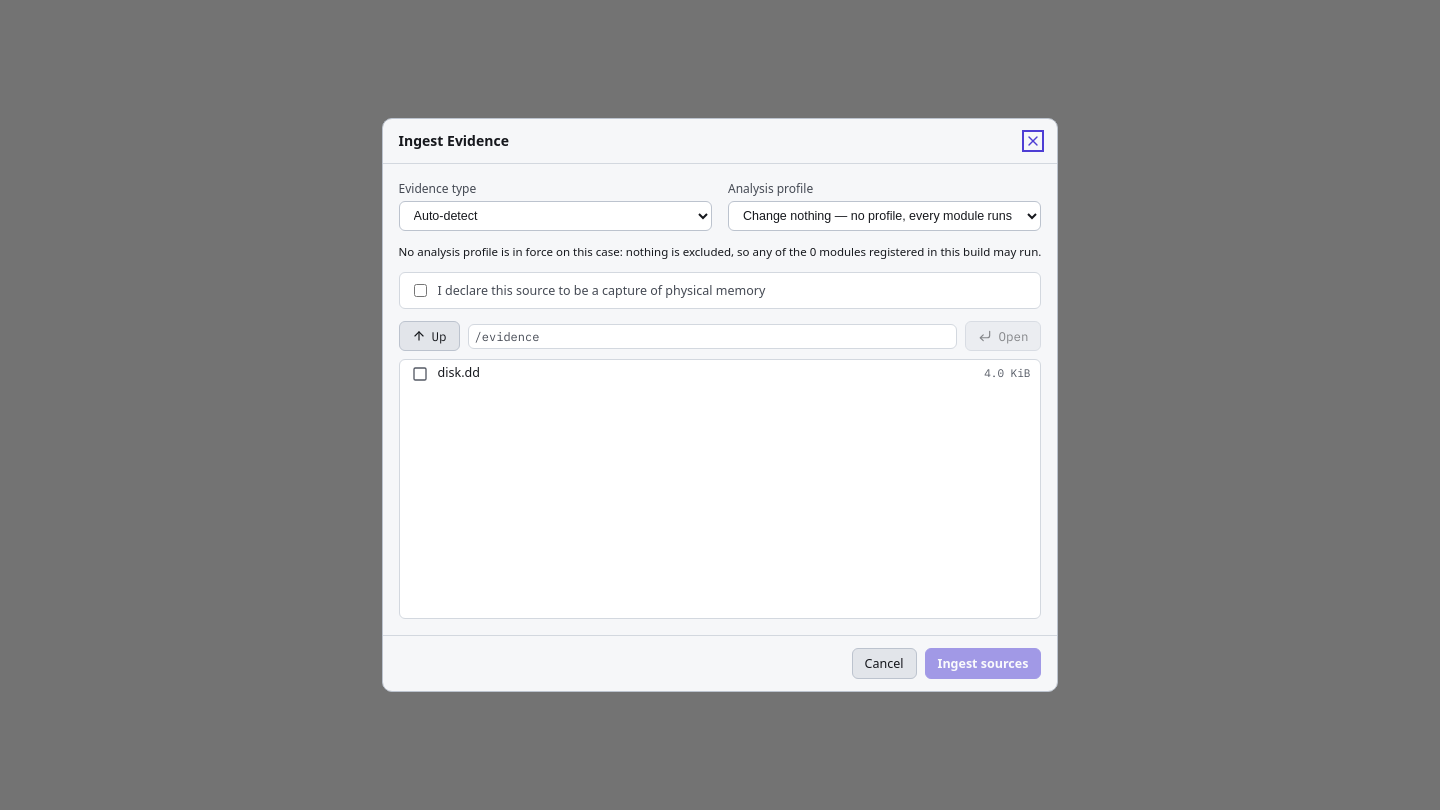
Scenario: pasting a known evidence path › shows the server refusal against the path the examiner pasted
Replace the text in the field named "path" with "/home/examiner/Downloads" at [712, 336], box 468,324 -> 957,349
Then press Enter
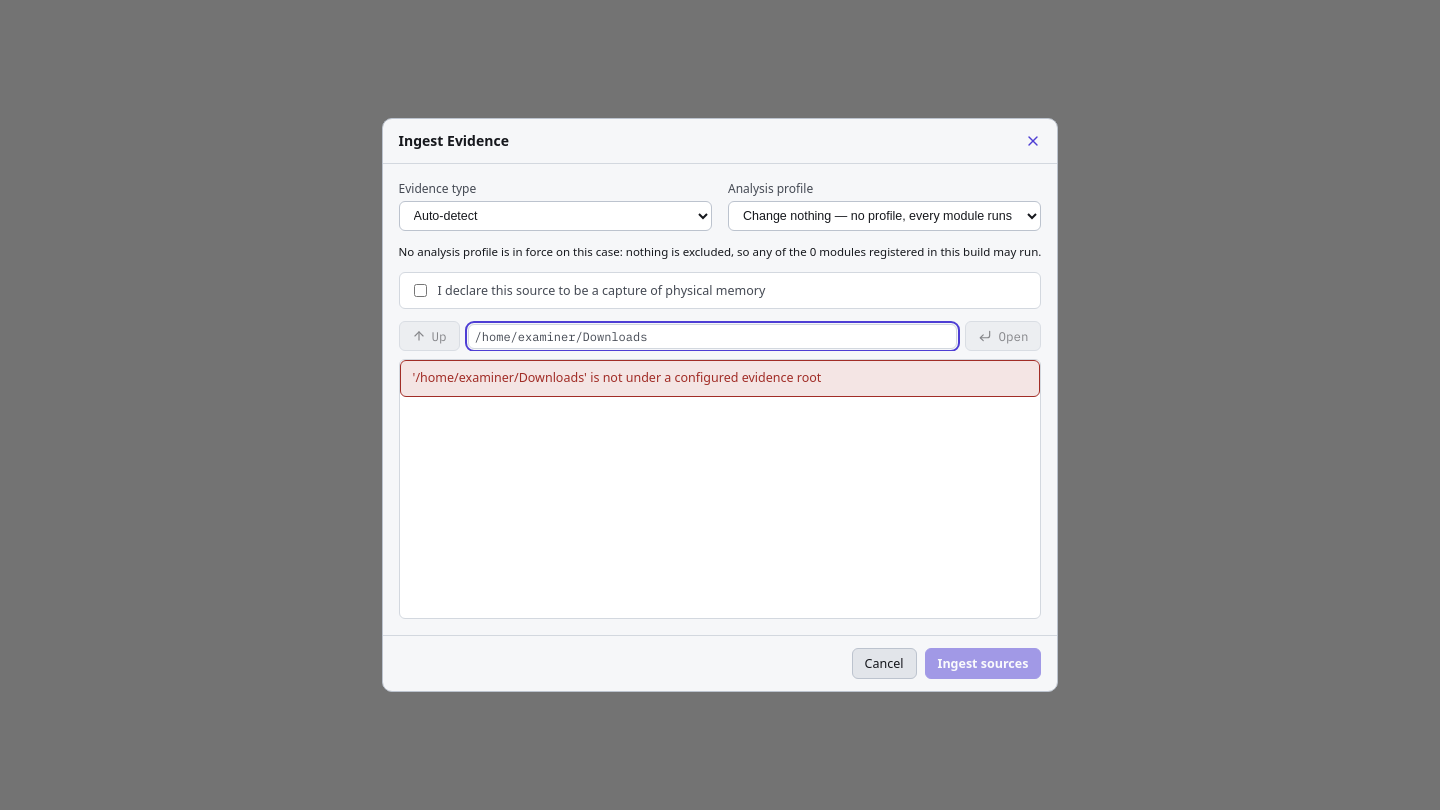
Result: the text "not under a configured evidence root" is shown at 413,370 -> 821,386
